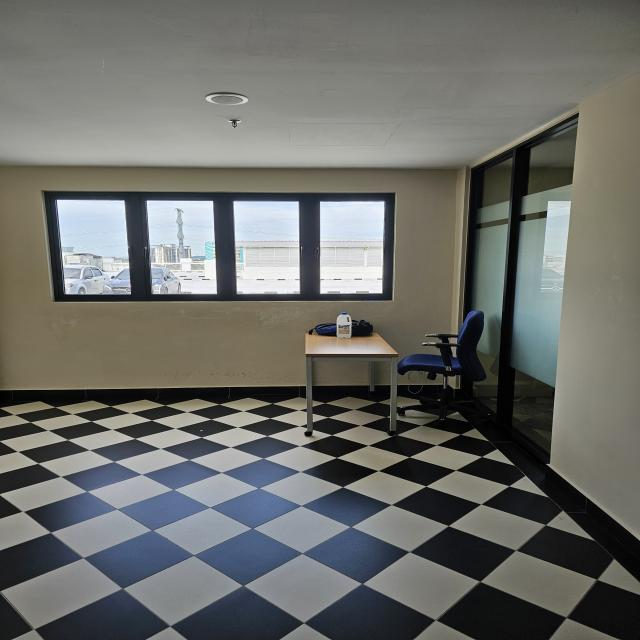footpath: (3, 445, 519, 638)
obstacle: (295, 304, 494, 430)
